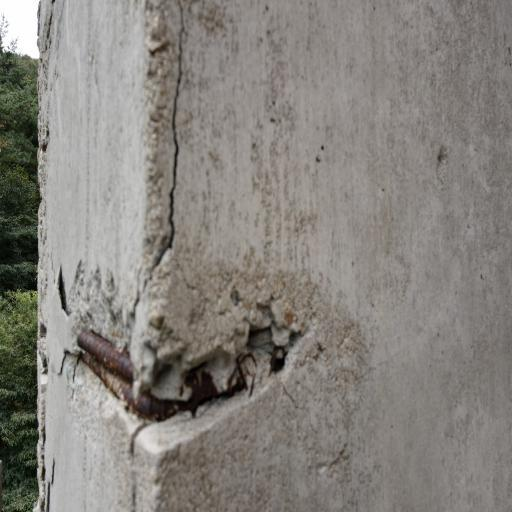exposed_rebar: (77, 329, 218, 420), (77, 329, 133, 382)
spalling: (60, 302, 301, 454)
